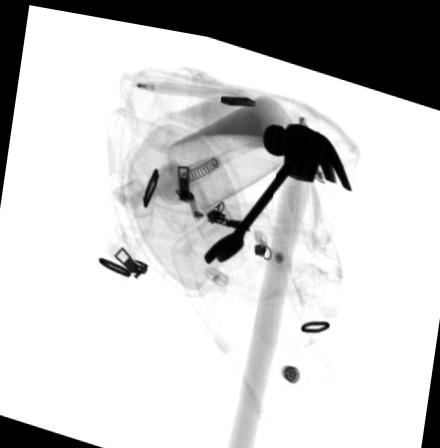Hammer: (223, 112, 354, 448)
Wrench: (201, 133, 301, 256)
